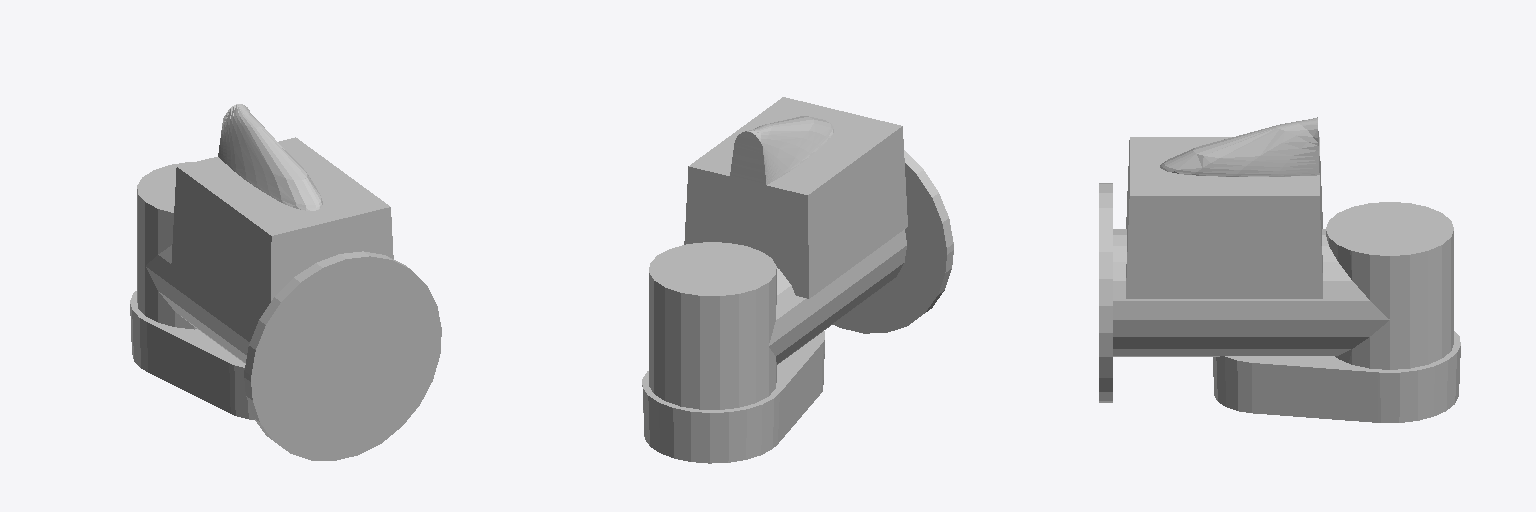
Rendered from LWY.obj.
The picture shows the model from 3 angles: view 1: azimuth 30°, elevation 25°; view 2: azimuth 150°, elevation 25°; view 3: azimuth 270°, elevation 25°; orthographic projection.
Visible parts, largest first — view 1: Shape_IndexedFaceSet.003_Shape_IndexedFaceSet.096, Shape_IndexedFaceSet.002_Shape_IndexedFaceSet.095, Shape_IndexedFaceSet_Shape_IndexedFaceSet.093, Shape_IndexedFaceSet.001_Shape_IndexedFaceSet.094, Shape_IndexedFaceSet.004_Shape_IndexedFaceSet.097; view 2: Shape_IndexedFaceSet_Shape_IndexedFaceSet.093, Shape_IndexedFaceSet.002_Shape_IndexedFaceSet.095, Shape_IndexedFaceSet.001_Shape_IndexedFaceSet.094, Shape_IndexedFaceSet.003_Shape_IndexedFaceSet.096, Shape_IndexedFaceSet.004_Shape_IndexedFaceSet.097; view 3: Shape_IndexedFaceSet_Shape_IndexedFaceSet.093, Shape_IndexedFaceSet.002_Shape_IndexedFaceSet.095, Shape_IndexedFaceSet.001_Shape_IndexedFaceSet.094, Shape_IndexedFaceSet.004_Shape_IndexedFaceSet.097, Shape_IndexedFaceSet.003_Shape_IndexedFaceSet.096.
Boxes of the visible parts, <box> form: Shape_IndexedFaceSet.003_Shape_IndexedFaceSet.096: <box>244,251,441,460</box>; Shape_IndexedFaceSet.002_Shape_IndexedFaceSet.095: <box>171,137,393,328</box>; Shape_IndexedFaceSet_Shape_IndexedFaceSet.093: <box>137,162,254,363</box>; Shape_IndexedFaceSet.001_Shape_IndexedFaceSet.094: <box>130,291,254,419</box>; Shape_IndexedFaceSet.004_Shape_IndexedFaceSet.097: <box>218,104,322,210</box>; Shape_IndexedFaceSet_Shape_IndexedFaceSet.093: <box>649,229,906,409</box>; Shape_IndexedFaceSet.002_Shape_IndexedFaceSet.095: <box>684,97,907,298</box>; Shape_IndexedFaceSet.001_Shape_IndexedFaceSet.094: <box>642,331,824,463</box>; Shape_IndexedFaceSet.003_Shape_IndexedFaceSet.096: <box>833,150,953,333</box>; Shape_IndexedFaceSet.004_Shape_IndexedFaceSet.097: <box>730,116,833,184</box>; Shape_IndexedFaceSet_Shape_IndexedFaceSet.093: <box>1113,202,1453,369</box>; Shape_IndexedFaceSet.002_Shape_IndexedFaceSet.095: <box>1126,137,1322,298</box>; Shape_IndexedFaceSet.001_Shape_IndexedFaceSet.094: <box>1213,331,1460,422</box>; Shape_IndexedFaceSet.004_Shape_IndexedFaceSet.097: <box>1160,117,1319,176</box>; Shape_IndexedFaceSet.003_Shape_IndexedFaceSet.096: <box>1099,183,1112,402</box>.
Size of the model in its own units: 0.0719 by 0.0995 by 0.1182.